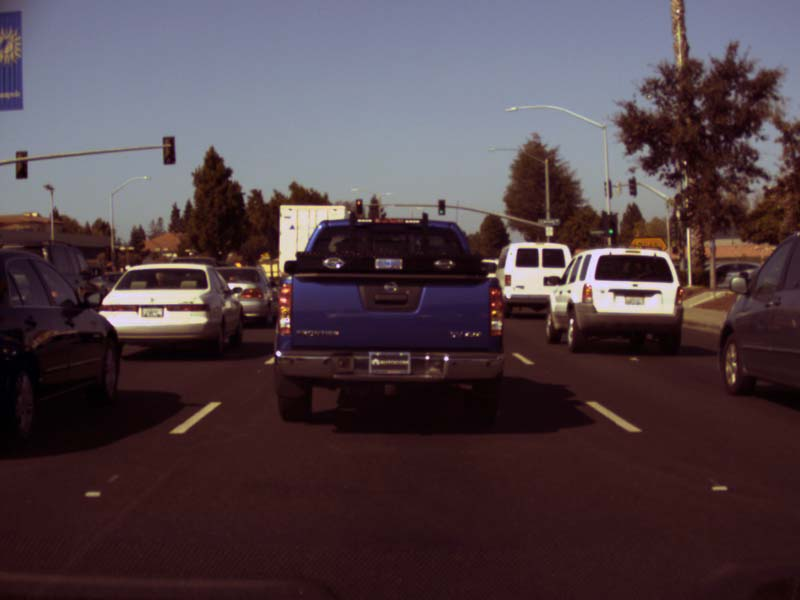Green: (607, 214, 614, 235), (438, 199, 443, 213)
Red: (356, 198, 361, 212)
